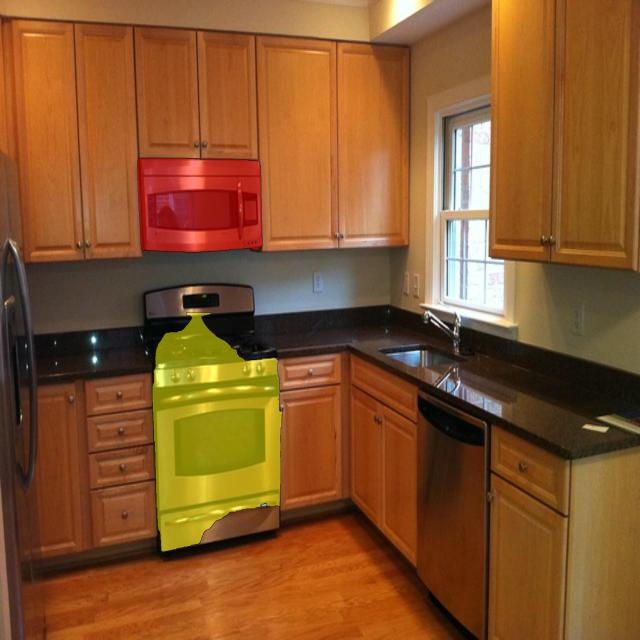dishwasher: (417, 384, 489, 640)
